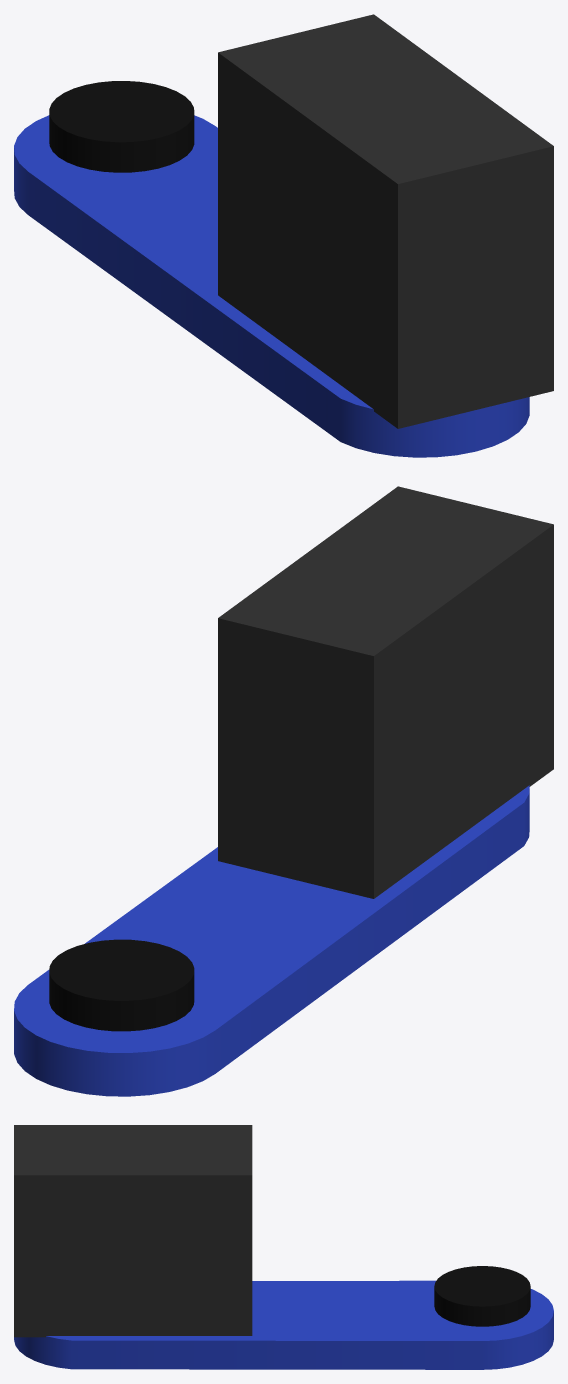
The model's file is generic_s5.obj.
3 renders of one model, top to bottom at view 1: azimuth 30°, elevation 25°; view 2: azimuth 150°, elevation 25°; view 3: azimuth 270°, elevation 25°, orthographic. The views are drawn at different scales.
Parts seen in each view (by area): view 1: basic_servo.003, Cylinder.001, connector_linked.002; view 2: basic_servo.003, Cylinder.001, connector_linked.002; view 3: basic_servo.003, Cylinder.001, connector_linked.002.
Part boxes in pixels (x1,y1,x2,y2): basic_servo.003: [218, 14, 553, 428]; Cylinder.001: [14, 115, 529, 457]; connector_linked.002: [49, 81, 194, 172]; basic_servo.003: [218, 486, 553, 898]; Cylinder.001: [14, 785, 529, 1096]; connector_linked.002: [49, 939, 194, 1031]; basic_servo.003: [14, 1125, 252, 1337]; Cylinder.001: [14, 1280, 553, 1369]; connector_linked.002: [434, 1266, 530, 1326].
Bounding box in the file's own units: 0.9 × 1.32 × 3.4.
